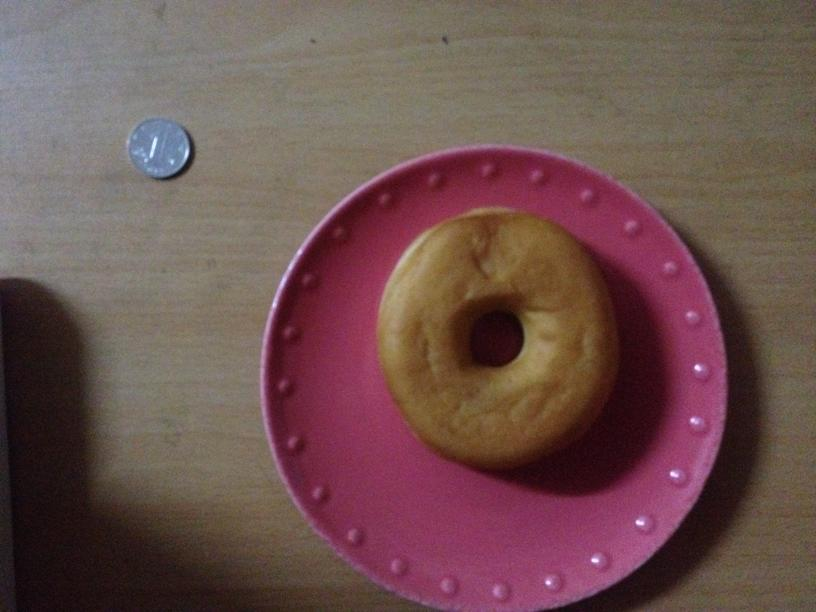coin: (376, 210, 617, 470)
doughnut: (376, 210, 617, 470)
